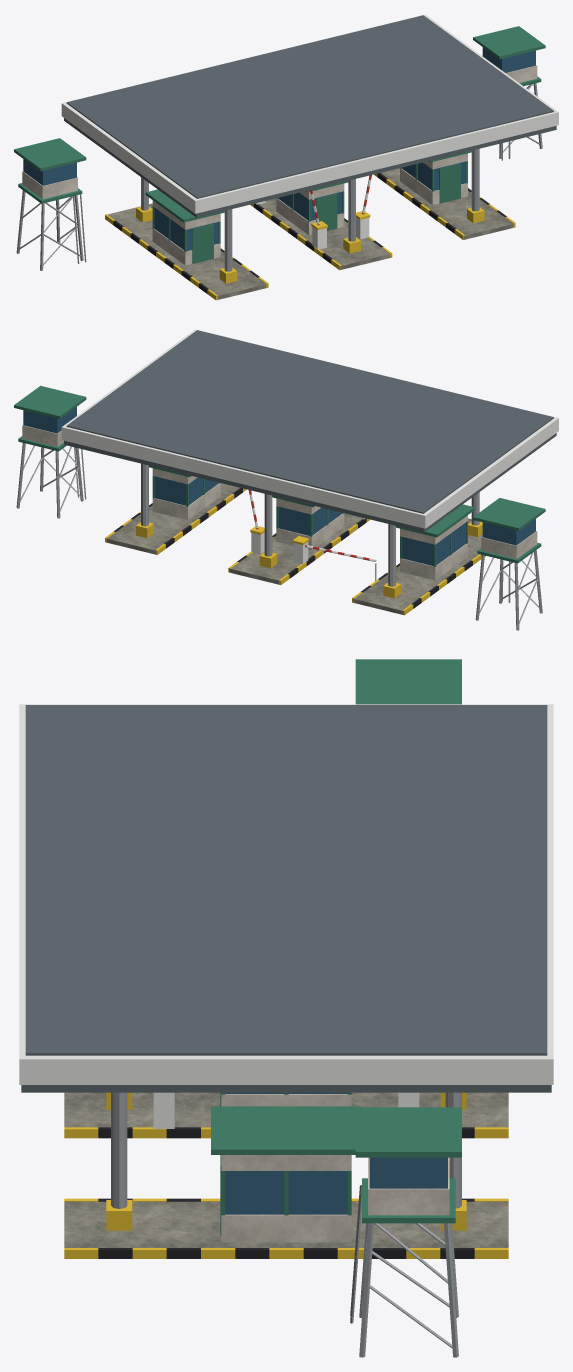
The model's file is przejscie.glb.
The picture shows the model from 3 angles, top to bottom: view 1: azimuth 30°, elevation 25°; view 2: azimuth 150°, elevation 25°; view 3: azimuth 270°, elevation 25°; orthographic projection. The views are drawn at different scales.
Parts seen in each view (by area): view 1: przejscie_bryla; view 2: przejscie_bryla; view 3: przejscie_bryla.
Boxes of the visible parts, left/top/right/bottom form: przejscie_bryla: left=14, top=14, right=558, bottom=300; przejscie_bryla: left=14, top=329, right=558, bottom=630; przejscie_bryla: left=19, top=659, right=553, bottom=1357.
Size of the model in its own units: 28.6 by 6.33 by 13.1.
Materials: 11 (2 with a texture image).
